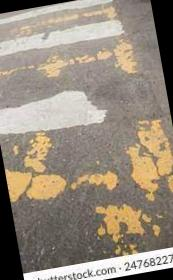faded_road_lines: (0, 64, 157, 154), (0, 13, 134, 65), (0, 0, 117, 28)
